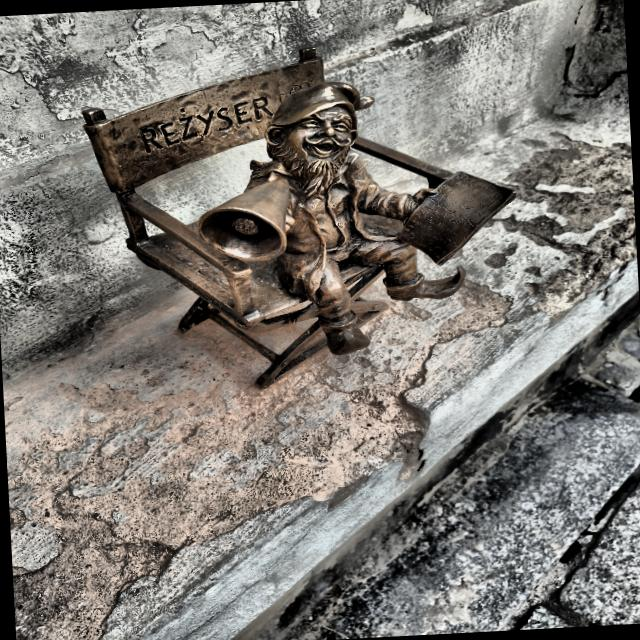Rezyser: (84, 49, 514, 387)
